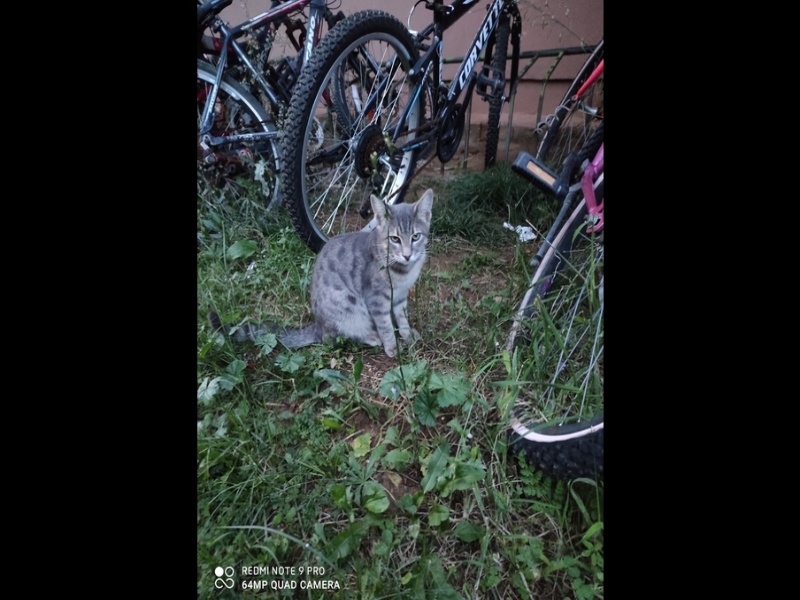cat: (232, 187, 438, 364)
